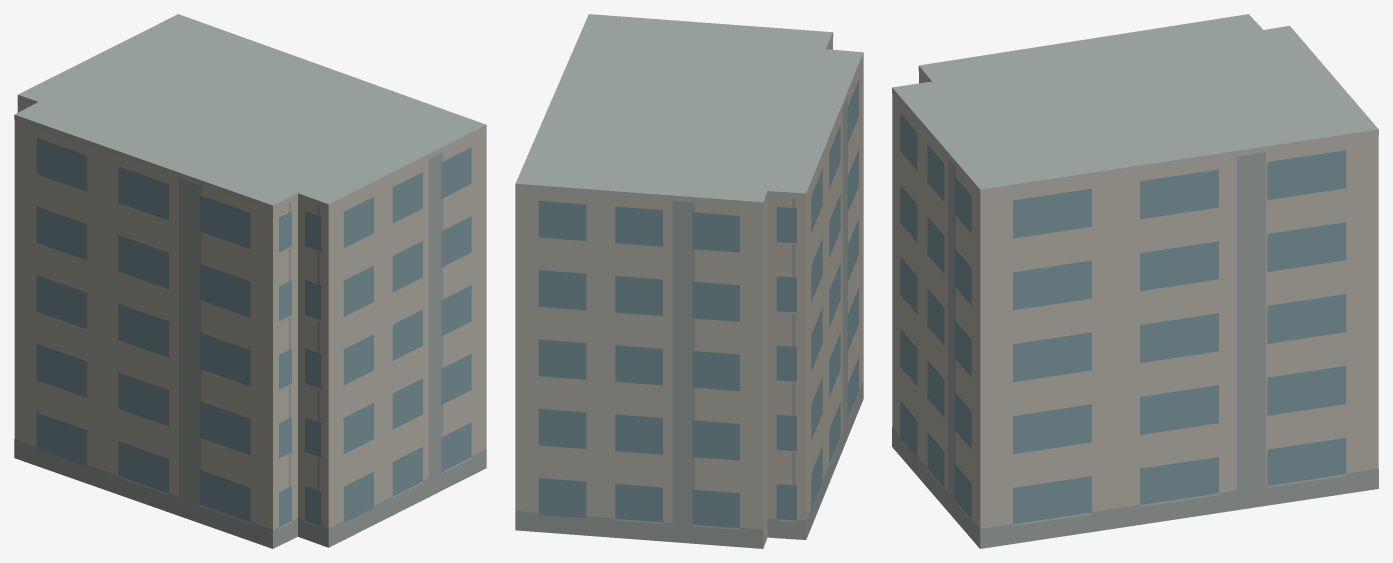
Rendered from survey-upis-32524716.glb.
3 renders of one model, left to right at view 1: azimuth 30°, elevation 25°; view 2: azimuth 150°, elevation 25°; view 3: azimuth 270°, elevation 25°, orthographic. The views are drawn at different scales.
Parts seen in each view (by area): view 1: survey-upis-32524716.tmp; view 2: survey-upis-32524716.tmp; view 3: survey-upis-32524716.tmp.
Part boxes in pixels (x1,y1,x2,y2): survey-upis-32524716.tmp: (14,14,486,548); survey-upis-32524716.tmp: (515,14,863,548); survey-upis-32524716.tmp: (892,14,1378,548).
Size of the model in its own units: 15.98 by 15.25 by 18.73.
